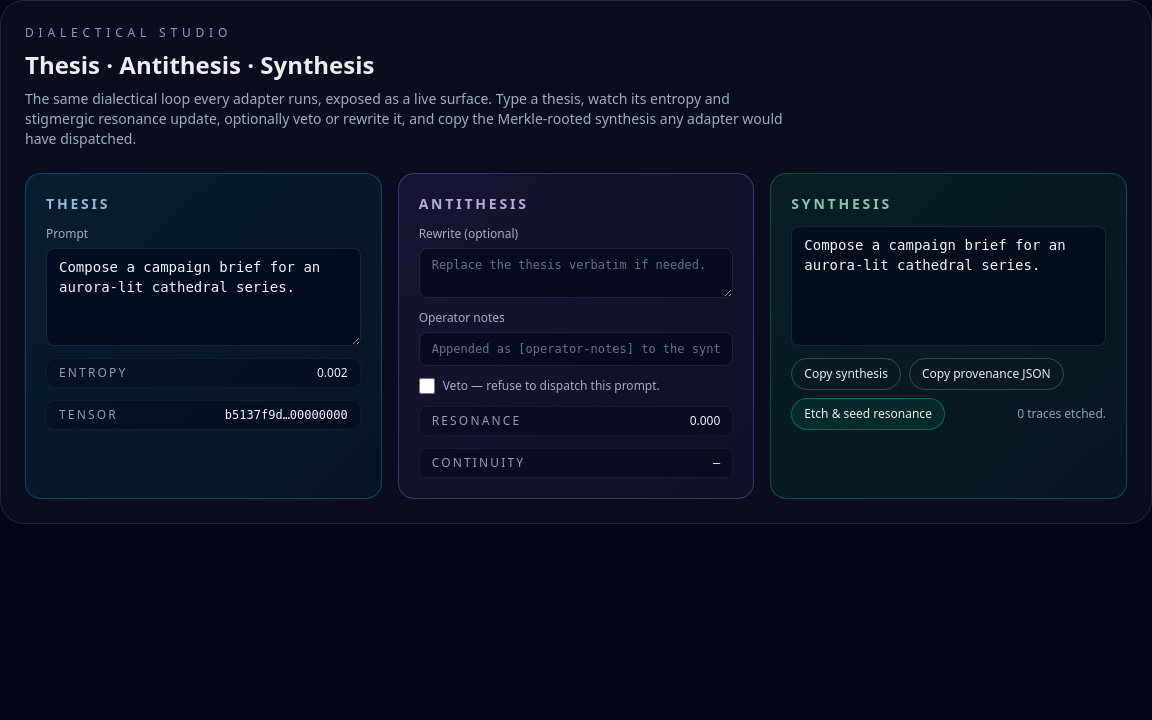
Test: DialecticalStudio › replaces the thesis with the rewrite when the operator supplies one
Replace the text in the text box with test id "dialectical-thesis-input" with "compose a hero shot" at (203, 297), box x1=46 y1=248 x2=361 y2=346
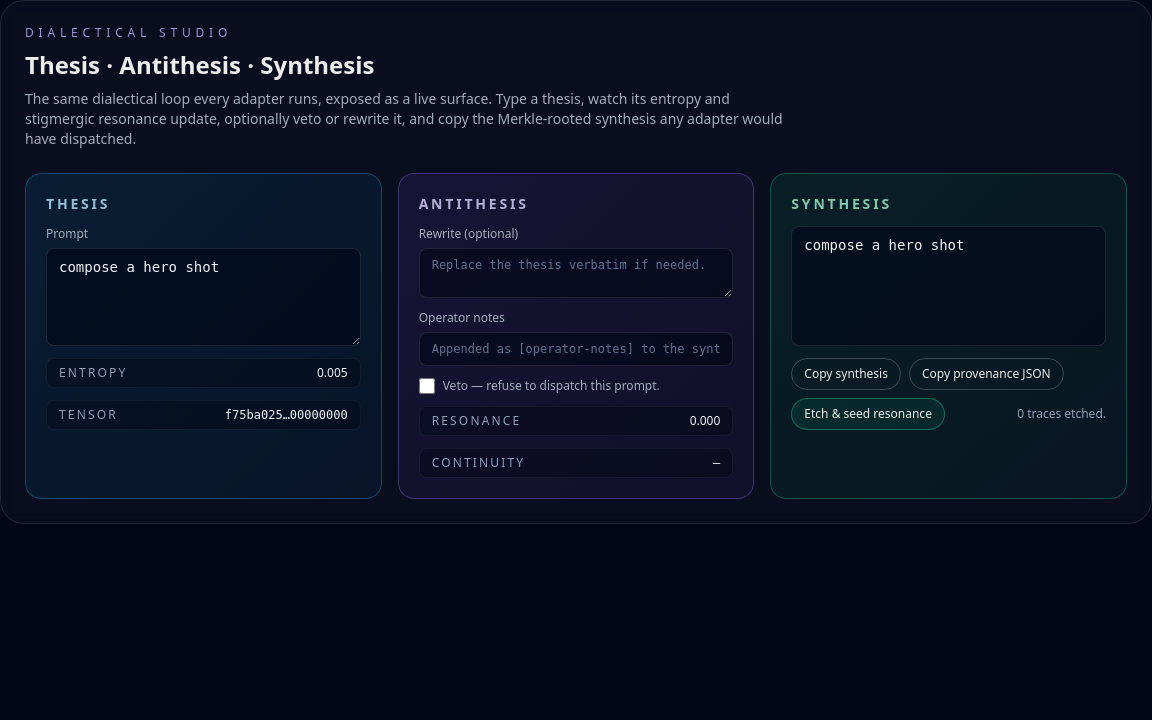
Type "instead: a quiet courtyard" into the text box with test id "dialectical-rewrite-input".
click(576, 273); type("instead: a quiet courtyard")  # box x1=419 y1=248 x2=733 y2=298
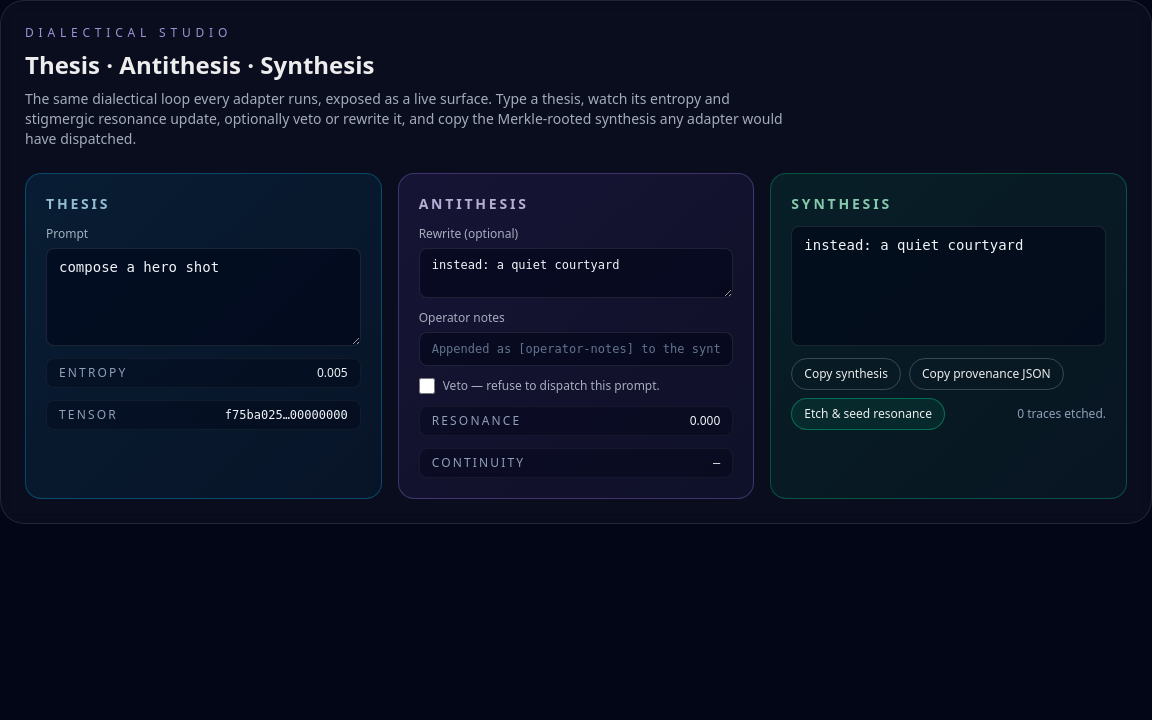
expect the text with test id "dialectical-synthesis-output" reads "instead: a quiet courtyard": met, box x1=804 y1=237 x2=1024 y2=253
expect the text with test id "dialectical-synthesis-output" no longer shows "compose a hero shot": met, box x1=791 y1=226 x2=1106 y2=346
